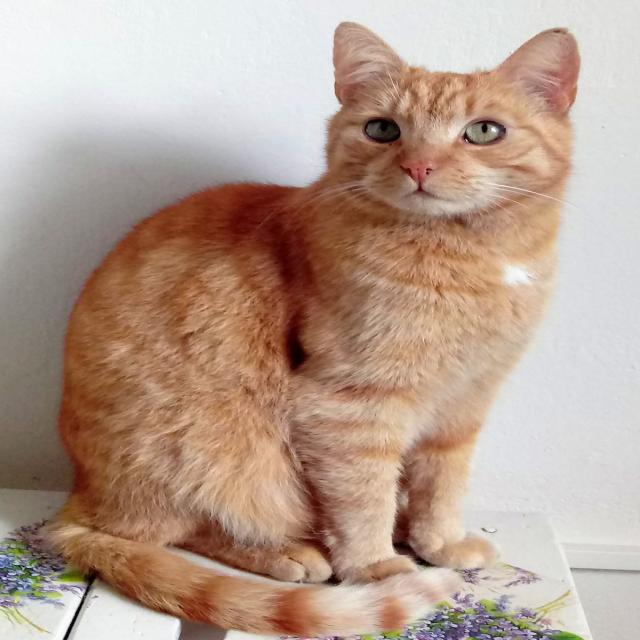sarman: (48, 23, 580, 636)
